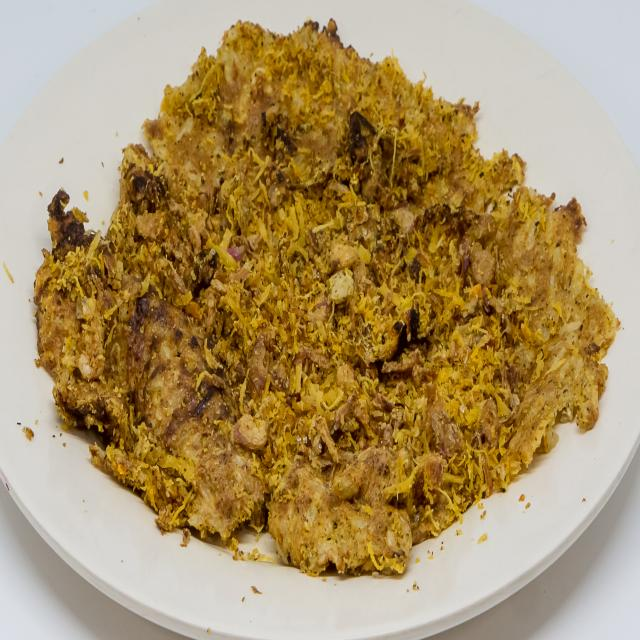Kerak-Telor: (26, 8, 626, 594)
